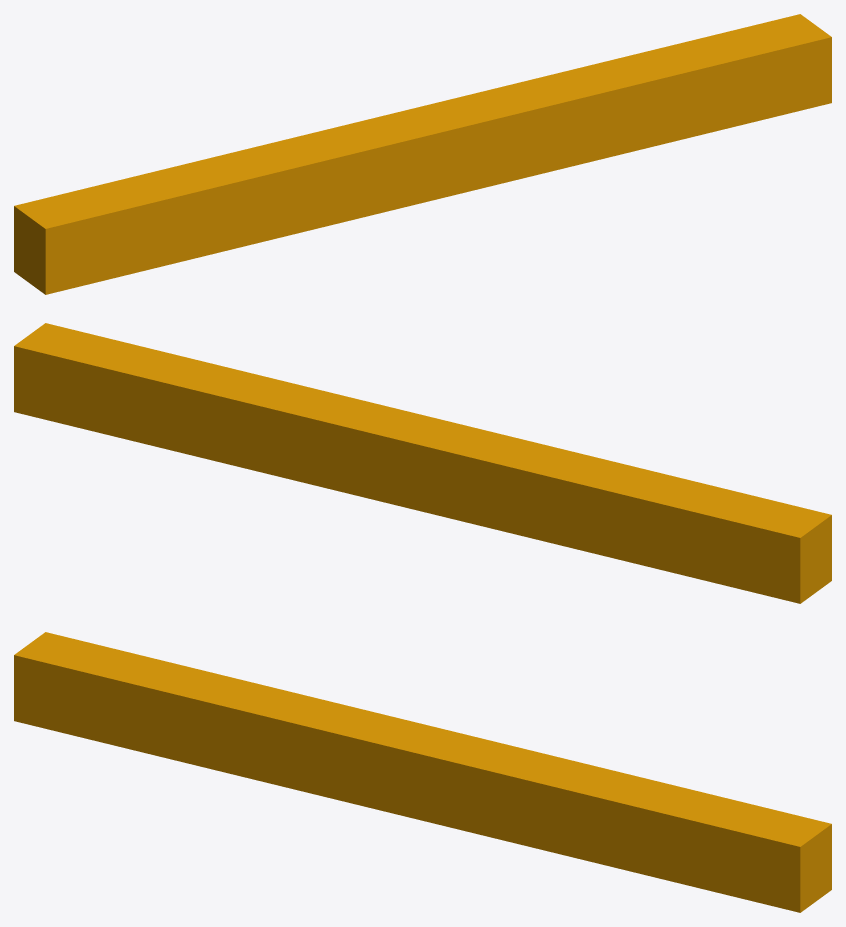
File: L_Rope_A_01_D1.fbx
The picture shows the model from 3 angles, top to bottom: view 1: azimuth 30°, elevation 25°; view 2: azimuth 150°, elevation 25°; view 3: azimuth 330°, elevation 25°; orthographic projection.
Visible parts, largest first — view 1: L_Rope_A_01_D1; view 2: L_Rope_A_01_D1; view 3: L_Rope_A_01_D1.
Boxes of the visible parts, x1,y1,x2,y2 form: L_Rope_A_01_D1: (14, 14, 831, 294); L_Rope_A_01_D1: (14, 323, 831, 603); L_Rope_A_01_D1: (14, 632, 831, 912).
Size of the model in its own units: 104 by 8.33 by 7.22.
